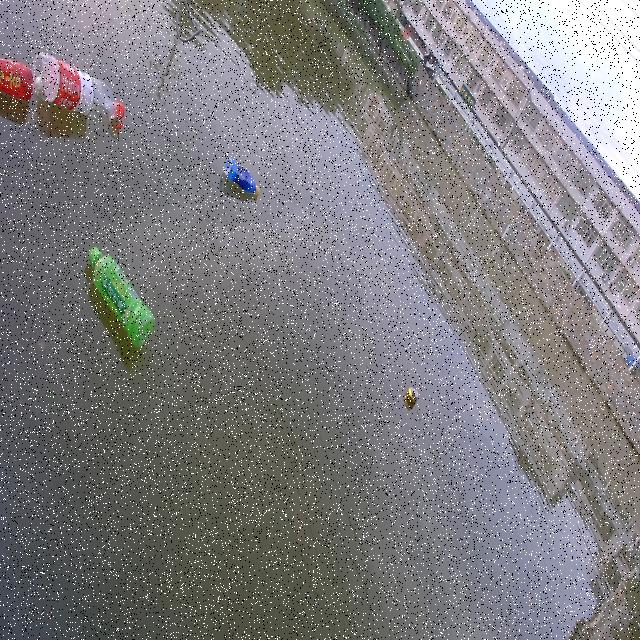Bottle: (34, 42, 132, 136), (86, 242, 156, 347), (1, 40, 34, 111), (221, 150, 263, 204)
Can: (399, 377, 424, 411)
